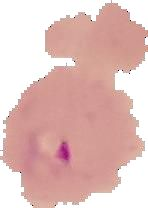parasitized: (24, 122, 86, 178)
